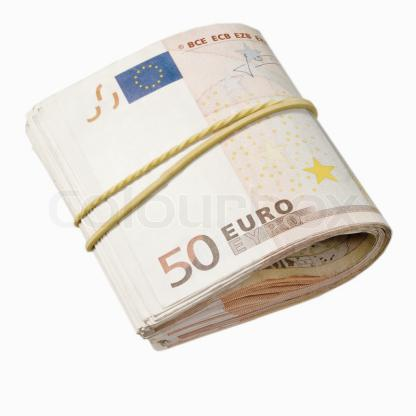euro_banknote: (87, 61, 358, 295)
